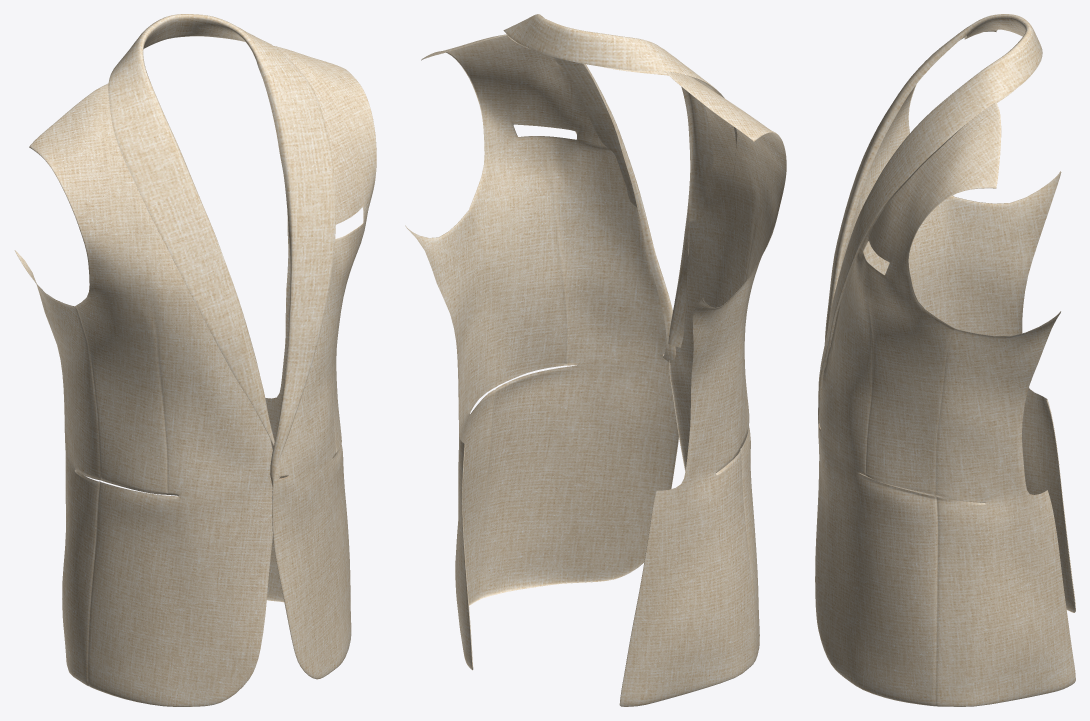
The model's file is single_shawl_button_wide.glb.
3 views of the same model, side by side, from view 1: azimuth 30°, elevation 25°; view 2: azimuth 150°, elevation 25°; view 3: azimuth 270°, elevation 25° (orthographic). The views are drawn at different scales.
Parts seen in each view (by area): view 1: single_shawl_button_wide; view 2: single_shawl_button_wide; view 3: single_shawl_button_wide.
Boxes of the visible parts, box(x1,y1,x2,y2) form: single_shawl_button_wide: box(14, 14, 376, 706); single_shawl_button_wide: box(405, 14, 786, 706); single_shawl_button_wide: box(815, 14, 1075, 706).
Bounding box in the file's own units: 0.0585 × 0.108 × 0.0411.
3 materials, 2 textured.
